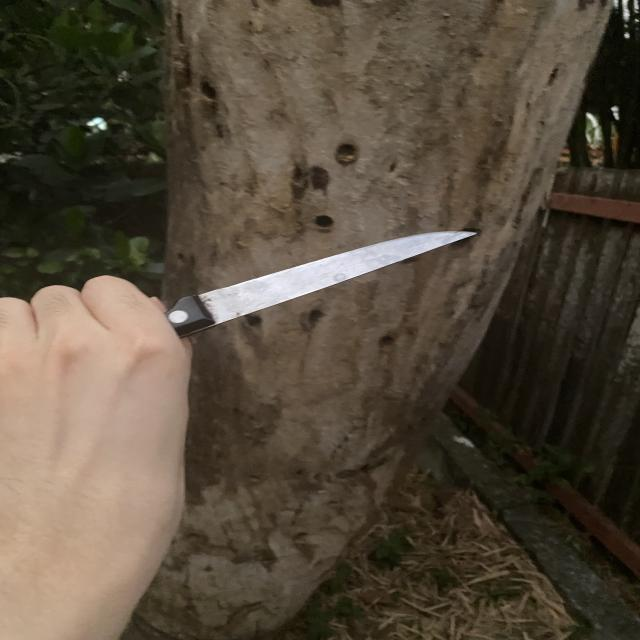faca: (0, 198, 511, 507)
